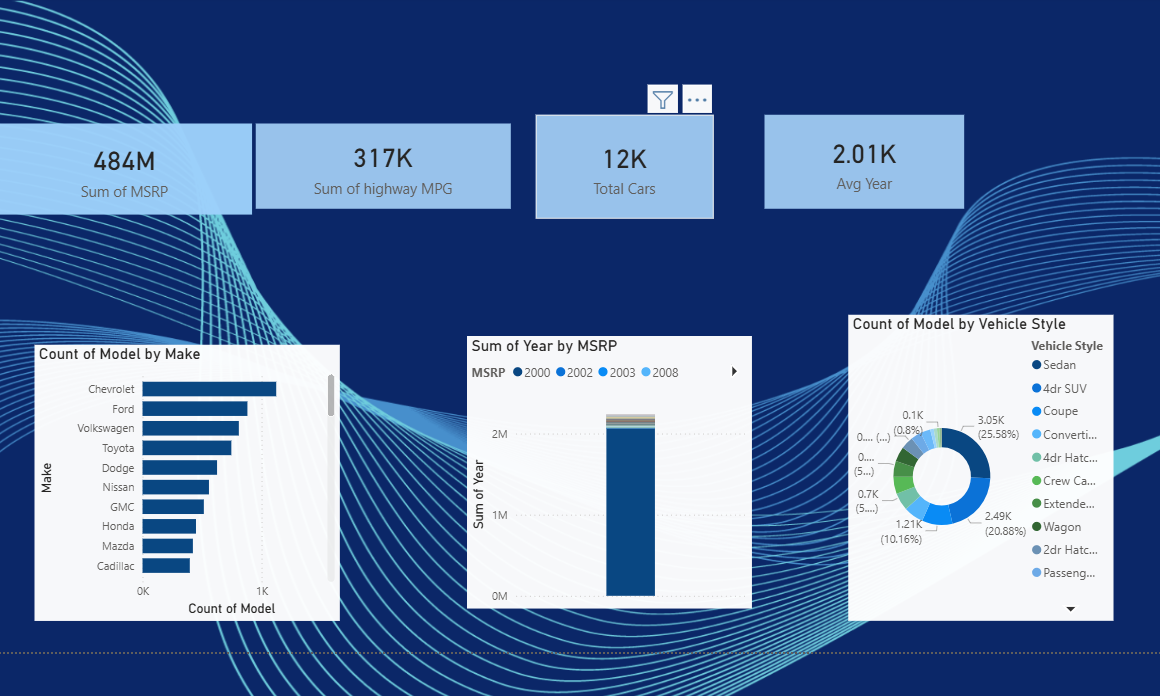

This screenshot's page, from the dashboard's own definition file:
{"tool":"powerbi","page":{"name":"Page 1","canvas":[1280,720],"ordinal":0},"visuals":[{"type":"card","fields":{"Values":["Sum(data.MSRP)"]},"box":[0,140,279.9,100.2],"z":0},{"type":"card","fields":{"Values":["data.Total Cars"]},"box":[591.4,130.4,194.9,113.9],"z":1000},{"type":"card","fields":{"Values":["data.Avg Year"]},"box":[842.5,130.4,219.6,102.9],"z":2000},{"type":"card","fields":{"Values":["Sum(data.highway MPG)"]},"box":[284,140,279.9,93.3],"z":3000},{"type":"barChart","fields":{"Category":["data.Make"],"Y":["CountNonNull(data.Model)"]},"box":[41.2,382.8,334.8,303.3],"z":4000},{"type":"columnChart","fields":{"Y":["Sum(data.Year)"],"Series":["data.MSRP"]},"box":[516,373.2,312.9,299.1],"z":5000},{"type":"donutChart","fields":{"Category":["data.Vehicle Style"],"Y":["CountNonNull(data.Model)"]},"box":[934.5,349.9,290.9,336.2],"z":6000}]}

Visuals, with their boxes on the page's 1280x720 design canvas (x1, y1, x2, y2). These are canvas units, not pixel positions in the 1160x696 screenshot, which may show the page scaled, cropped or inside an application window:
card - Sum(data.MSRP): bbox(0, 140, 280, 240)
card - data.Total Cars: bbox(591, 130, 786, 244)
card - data.Avg Year: bbox(842, 130, 1062, 233)
card - Sum(data.highway MPG): bbox(284, 140, 564, 233)
barChart - data.Make x CountNonNull(data.Model): bbox(41, 383, 376, 686)
columnChart - Sum(data.Year) x data.MSRP: bbox(516, 373, 829, 672)
donutChart - data.Vehicle Style x CountNonNull(data.Model): bbox(934, 350, 1225, 686)
